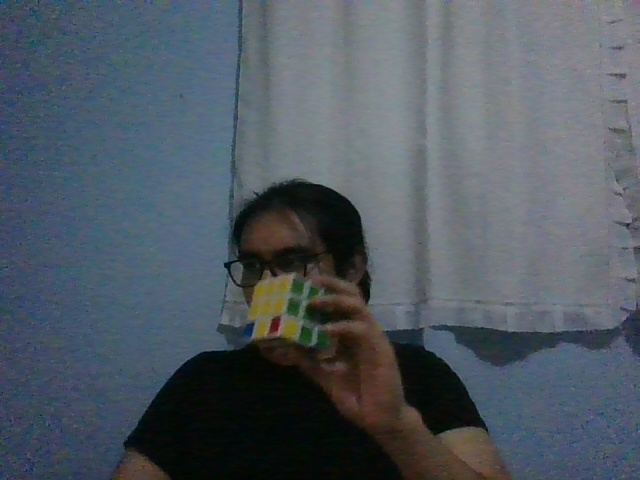rubik: (240, 272, 332, 366)
